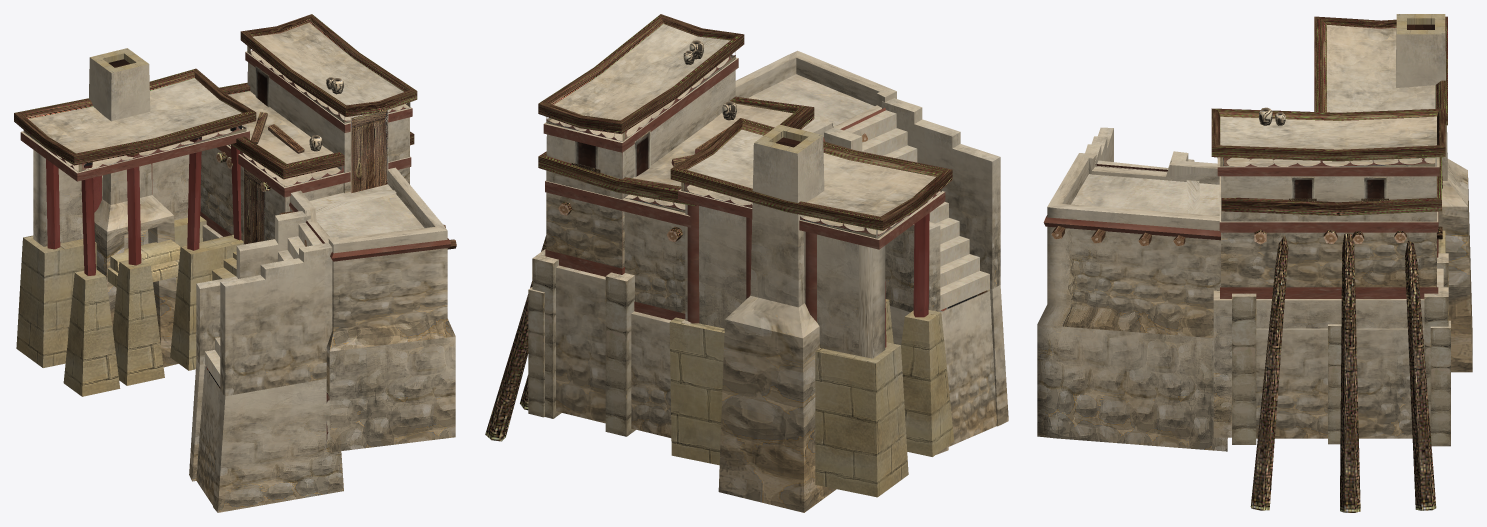
Rendered from mino_forge.dae.
3 renders of one model, left to right at view 1: azimuth 30°, elevation 25°; view 2: azimuth 150°, elevation 25°; view 3: azimuth 270°, elevation 25°, orthographic. The views are drawn at different scales.
Visible parts, largest first — view 1: Cube_016; view 2: Cube_016; view 3: Cube_016.
Boxes of the visible parts, x1,y1,x2,y2 form: Cube_016: [14, 14, 456, 512]; Cube_016: [485, 14, 1008, 512]; Cube_016: [1037, 14, 1472, 512].
Bounding box in the file's own units: 23.74 × 22.75 × 21.57.
